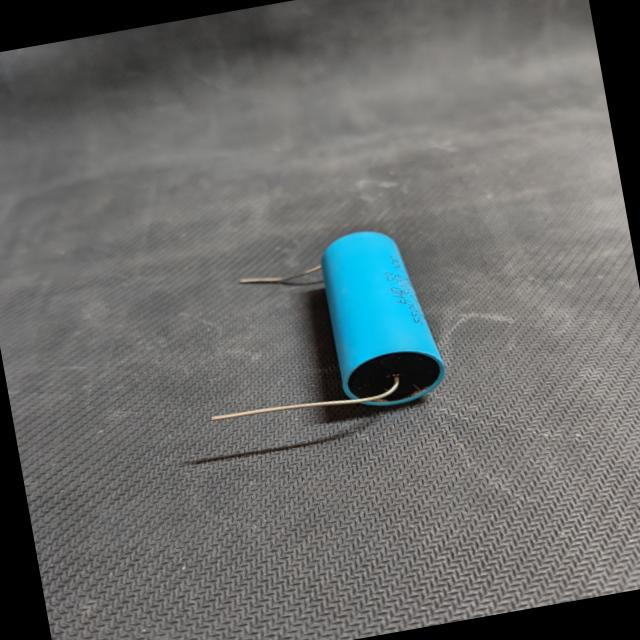capacitor: (211, 231, 444, 420)
